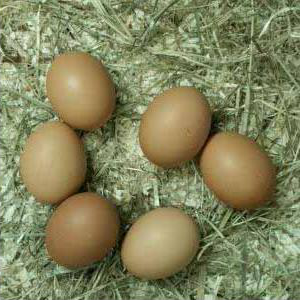egg: (197, 131, 276, 210), (121, 205, 202, 282), (140, 86, 212, 169), (45, 193, 121, 269), (47, 53, 116, 131), (21, 123, 88, 203)
